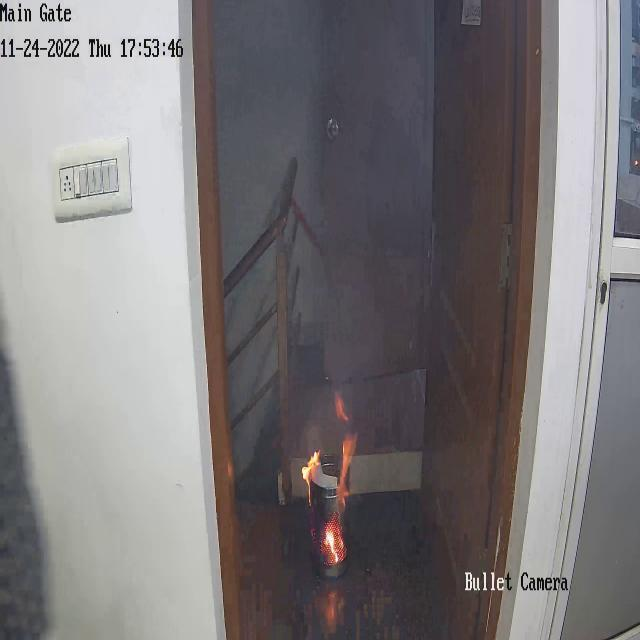fire: (334, 406, 358, 486), (301, 442, 326, 496), (326, 511, 346, 564)
smoke: (317, 132, 430, 260), (323, 10, 431, 127), (328, 268, 422, 382), (273, 20, 345, 104), (308, 370, 353, 440)
